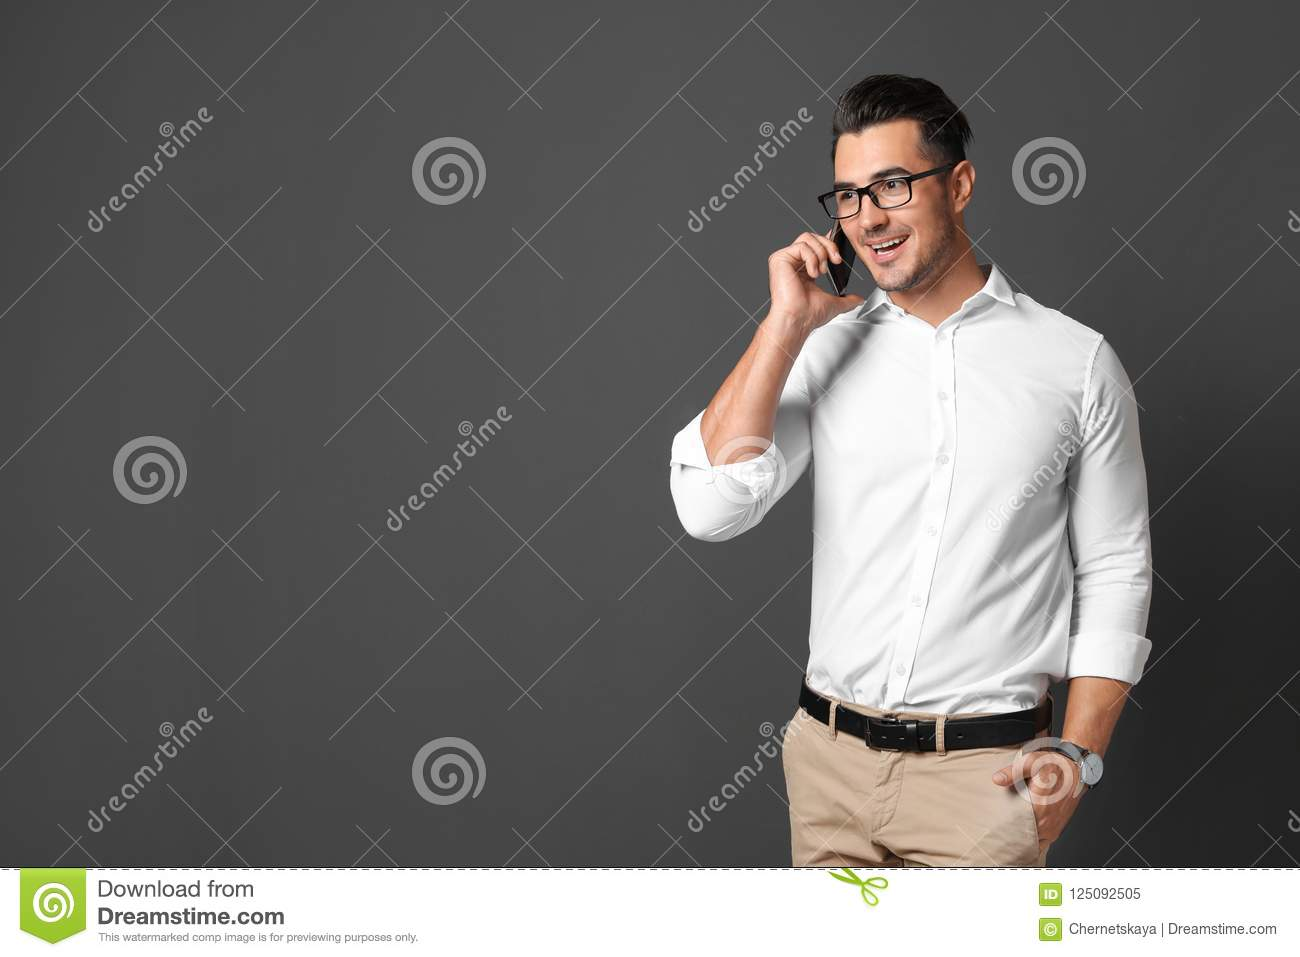phone: (820, 213, 860, 305)
talk: (766, 165, 929, 335)
